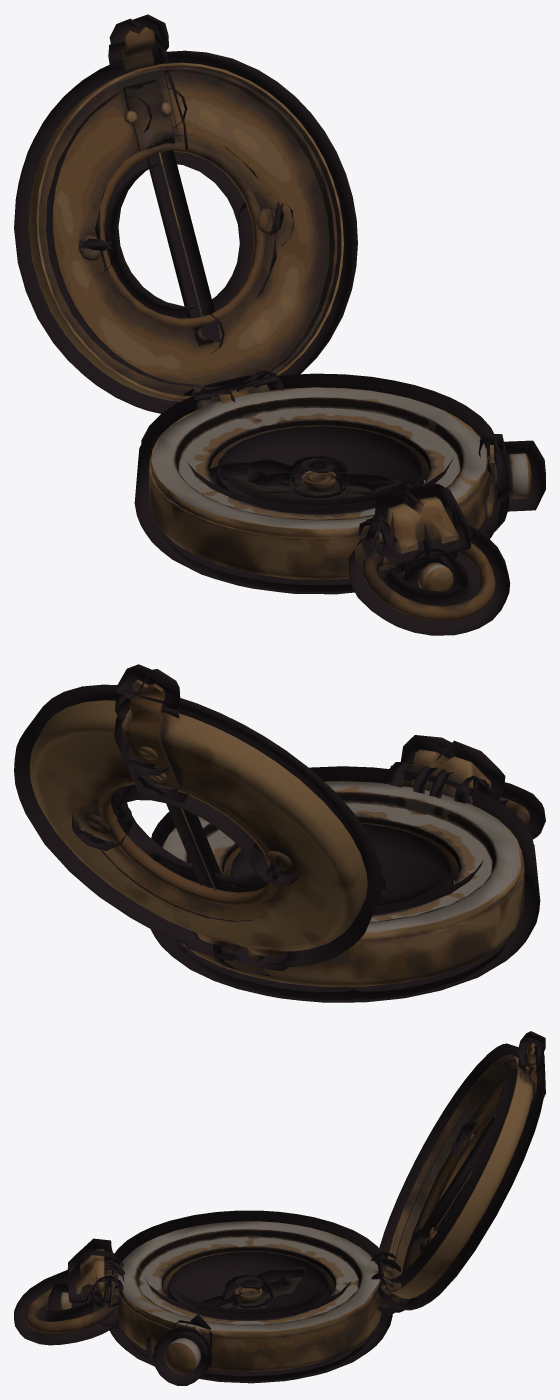
The model's file is SM_Int_Compass.fbx.
The picture shows the model from 3 angles, top to bottom: view 1: azimuth 30°, elevation 25°; view 2: azimuth 150°, elevation 25°; view 3: azimuth 270°, elevation 25°; orthographic projection. The views are drawn at different scales.
Visible parts, largest first — view 1: SM_Int_Compass; view 2: SM_Int_Compass; view 3: SM_Int_Compass.
Part boxes in pixels (bbox=[...]): SM_Int_Compass: bbox=[14, 14, 545, 635]; SM_Int_Compass: bbox=[14, 664, 545, 1002]; SM_Int_Compass: bbox=[14, 1031, 545, 1385].
Size of the model in its own units: 0.0874 by 0.0932 by 0.1498.
